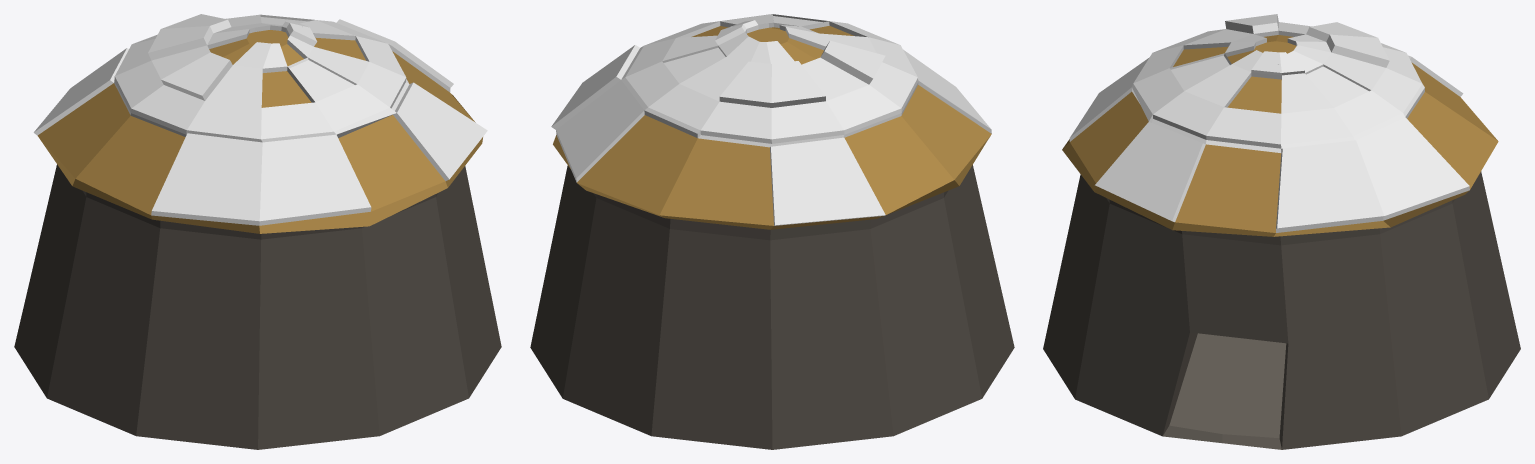
Rendered from snow_people_house_01.fbx.
3 renders of one model, left to right at view 1: azimuth 30°, elevation 25°; view 2: azimuth 150°, elevation 25°; view 3: azimuth 270°, elevation 25°, orthographic.
Parts seen in each view (by area): view 1: Cylinder; view 2: Cylinder; view 3: Cylinder.
Part boxes in pixels (left/top/right/bottom): Cylinder: left=14, top=14, right=501, bottom=449; Cylinder: left=530, top=14, right=1014, bottom=449; Cylinder: left=1043, top=14, right=1520, bottom=449.
Bounding box in the file's own units: 382 × 274 × 382.
